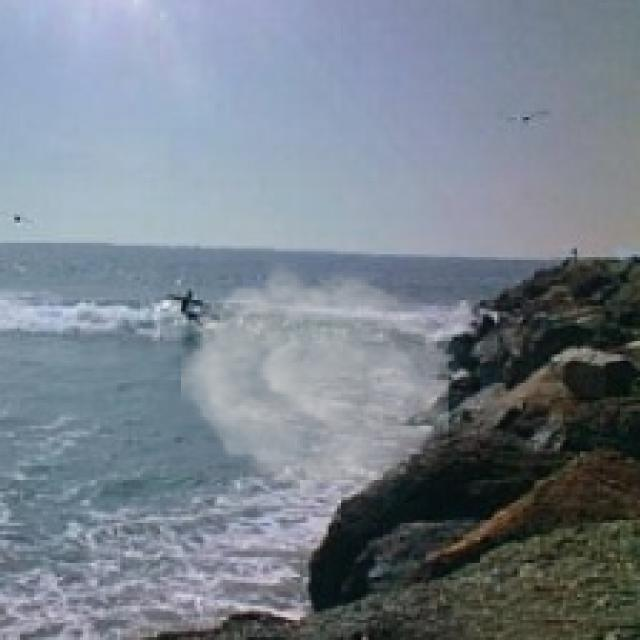Smoke: (180, 257, 449, 509)
